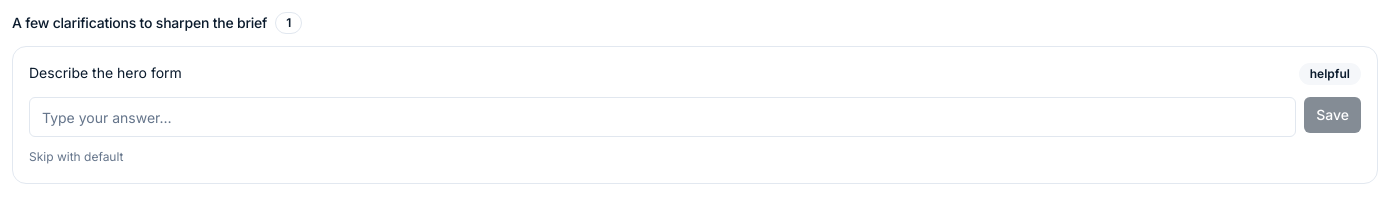
Scenario: BriefClarification › after saving a text answer, the card shows a Saved badge and read-only value
In the field with placeholder "Type your answer…": [663, 117] box [29,97,1296,137], type "suspended mobius ribbon"
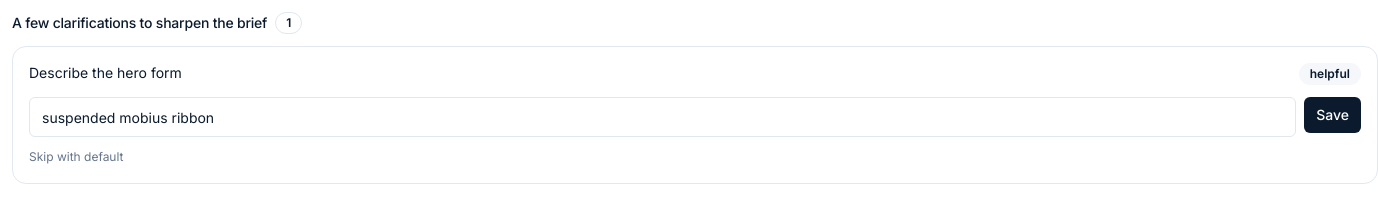
Click the button "Save": [1333, 115] box [1304,97,1361,133]
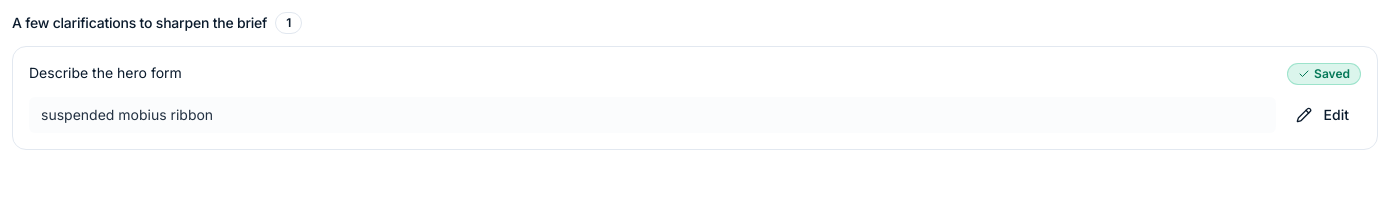
Result: the text "Saved" is shown at [1287,63,1361,85]
Result: the text "suspended mobius ribbon" is shown at [29,97,1276,133]
Result: the button "Skip with default" is gone
